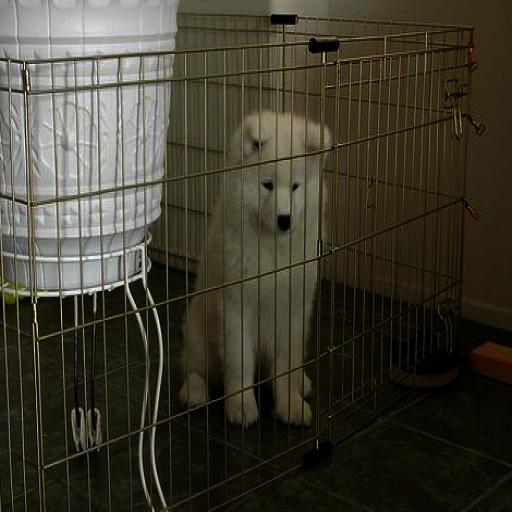dog_face: (233, 116, 327, 235)
